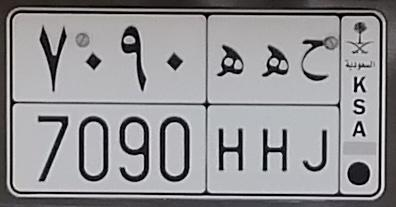0: (77, 51, 111, 183), (159, 51, 191, 183)
7: (37, 25, 70, 183)
9: (118, 24, 153, 184)
H: (259, 44, 289, 173), (216, 43, 245, 173)
J: (300, 38, 330, 173)
